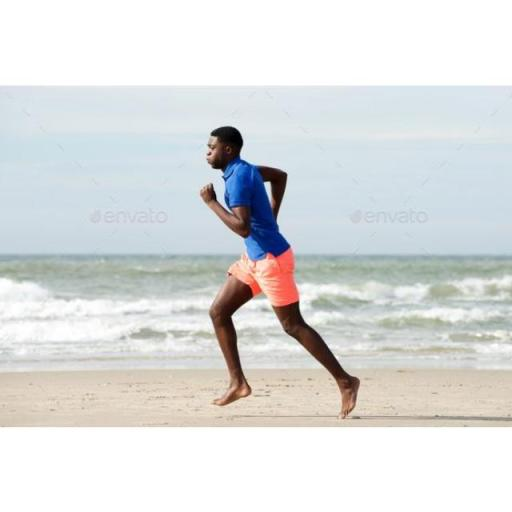Running: (193, 124, 361, 418)
